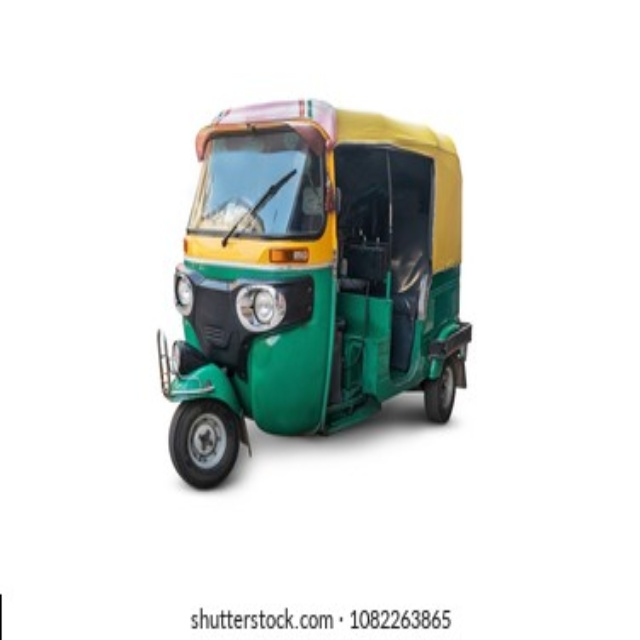Motorcycle: (157, 98, 473, 489)
